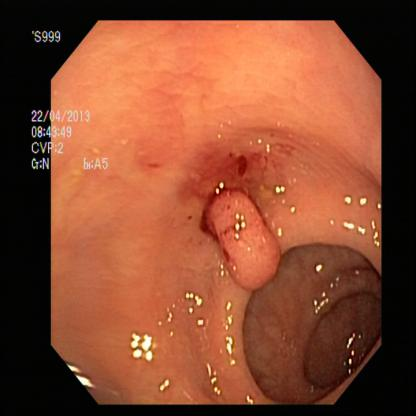Labels: (29, 24, 117, 178)
Polyps: (192, 175, 283, 286)
